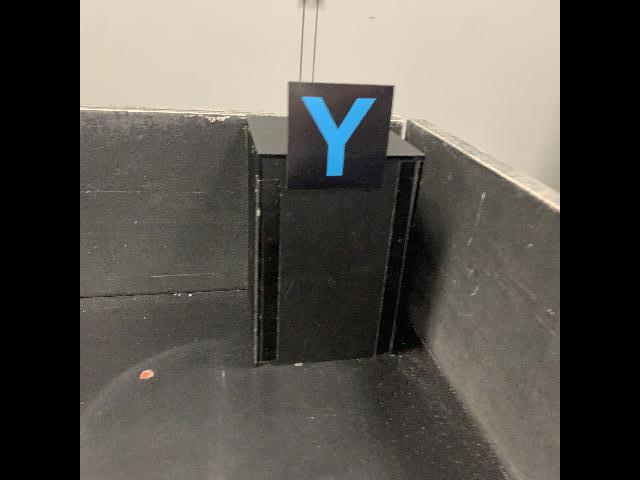y: (285, 80, 395, 193)
